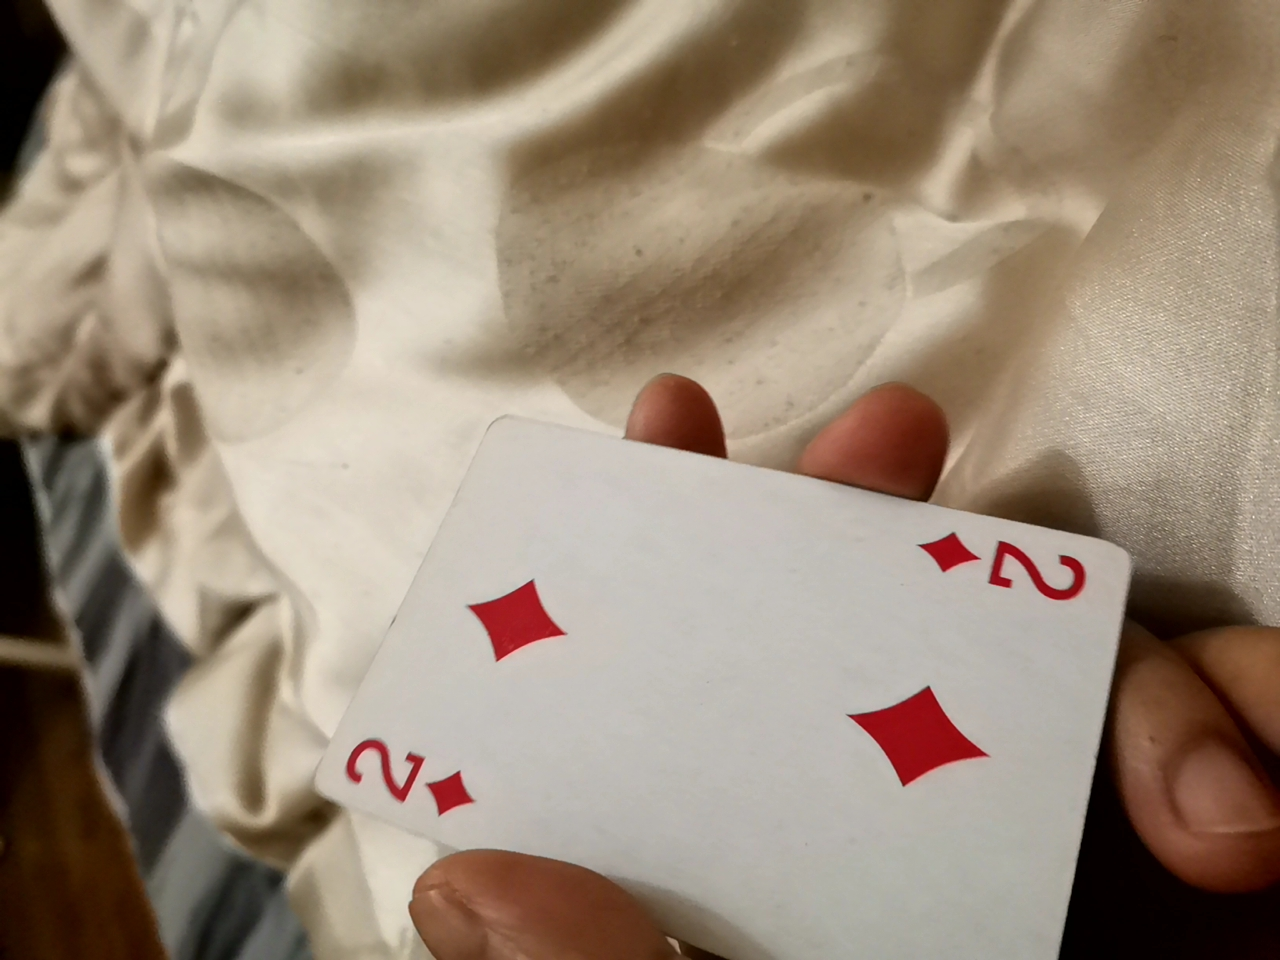fk 2: (337, 373, 1166, 955)
